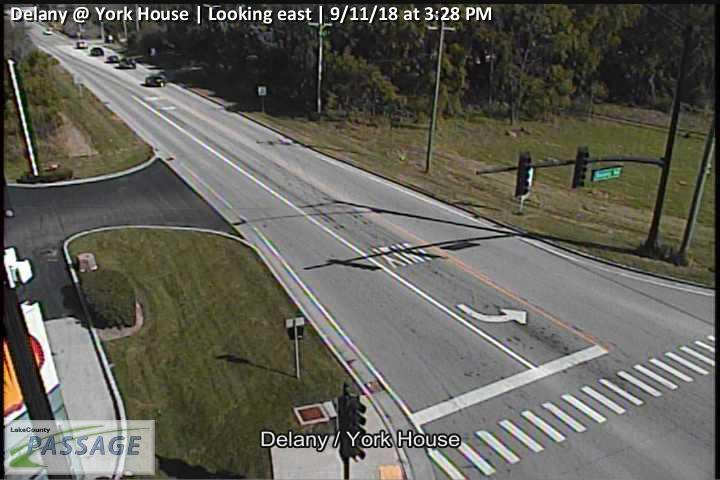SUV: (119, 57, 136, 69)
Sedan: (145, 74, 167, 87), (106, 55, 119, 62)
